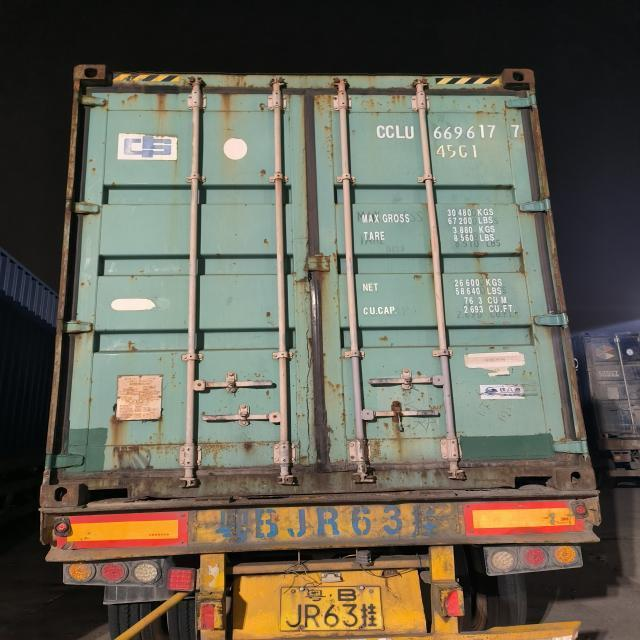ISO: (436, 142, 478, 160)
container_number: (378, 122, 528, 142)
